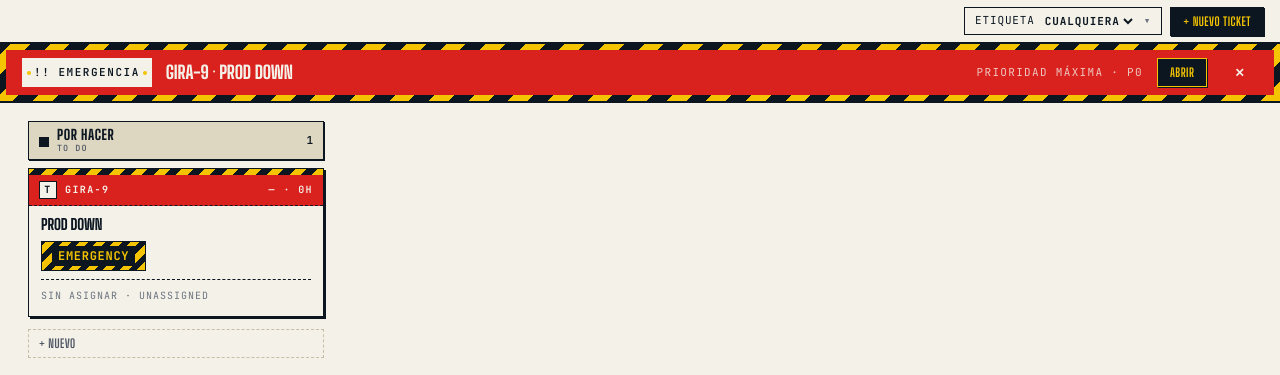
Test: BoardPage › dismisses the emergency banner with the ✕ button
The width and height of the screenshot is (1280, 375).
Expected: the text "!! EMERGENCIA" is shown, [22,58,152,87]
What coordinates should you click on to do the following:
click the button "✕"
I would click on:
 (1240, 72)
Its box is [1222,58,1258,87].
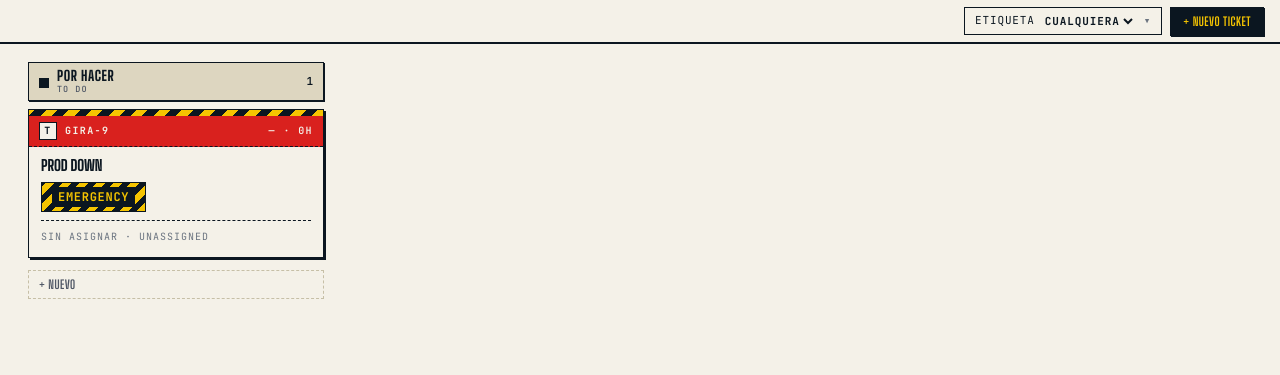
Result: the text "!! EMERGENCIA" is gone
